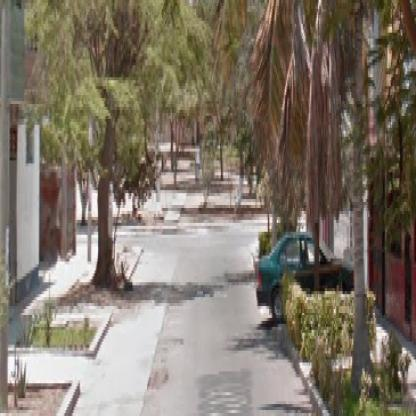Pista: (79, 221, 330, 414)
Vehiculo: (256, 233, 357, 328)
